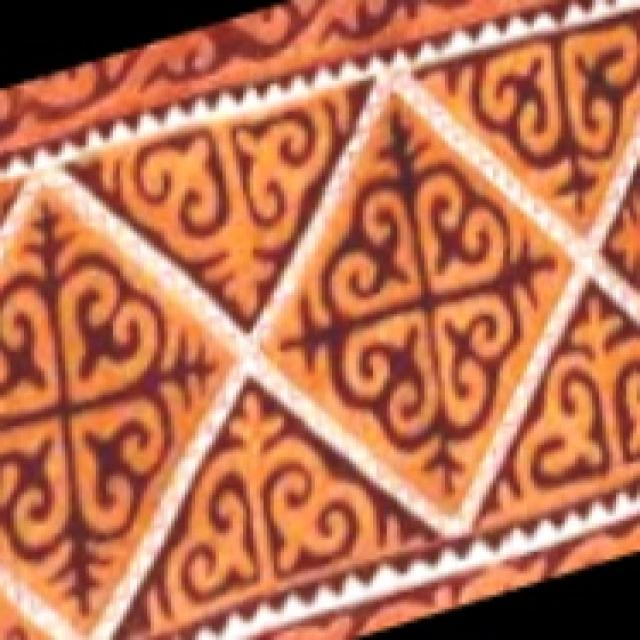Unity: (255, 106, 570, 501), (0, 188, 235, 629), (110, 388, 430, 638), (70, 85, 372, 322), (419, 12, 637, 225), (475, 281, 637, 525)
